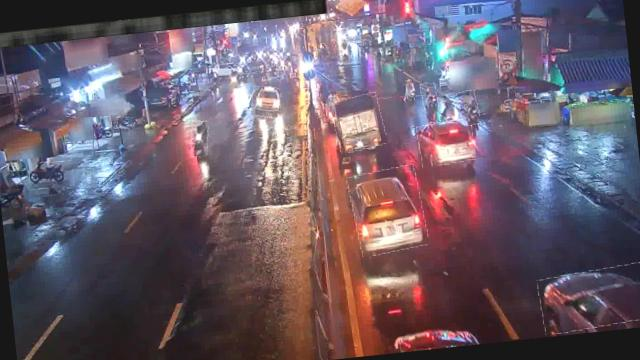Bike: (418, 118, 477, 167), (30, 160, 74, 190), (188, 120, 210, 158), (458, 90, 481, 126), (421, 82, 439, 114), (438, 99, 458, 122), (116, 116, 136, 130), (405, 80, 415, 102)
Car: (536, 263, 640, 334), (348, 166, 428, 256), (249, 85, 282, 120)
Truck: (330, 93, 386, 152)
